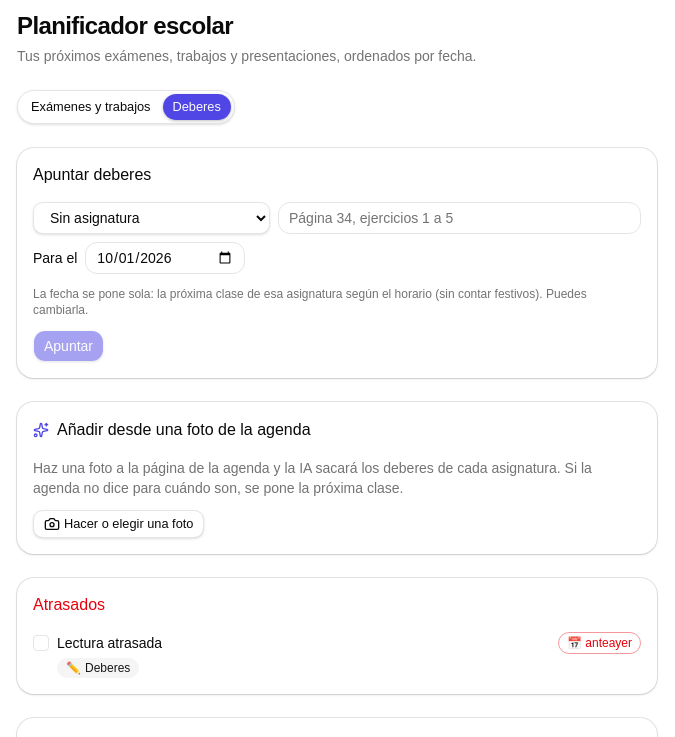
Planificador · pestaña Deberes › separa los deberes de los exámenes y los agrupa por día de entrega
The width and height of the screenshot is (675, 737).
Expected: the button "Lectura atrasada" is shown, [57,633,550,653]
Expected: the text "Examen de mates" is not shown
En la otra pestaña, al revés.
Click the tab "Exámenes y trabajos". click: click(91, 107)
box: [20,93,162,121]
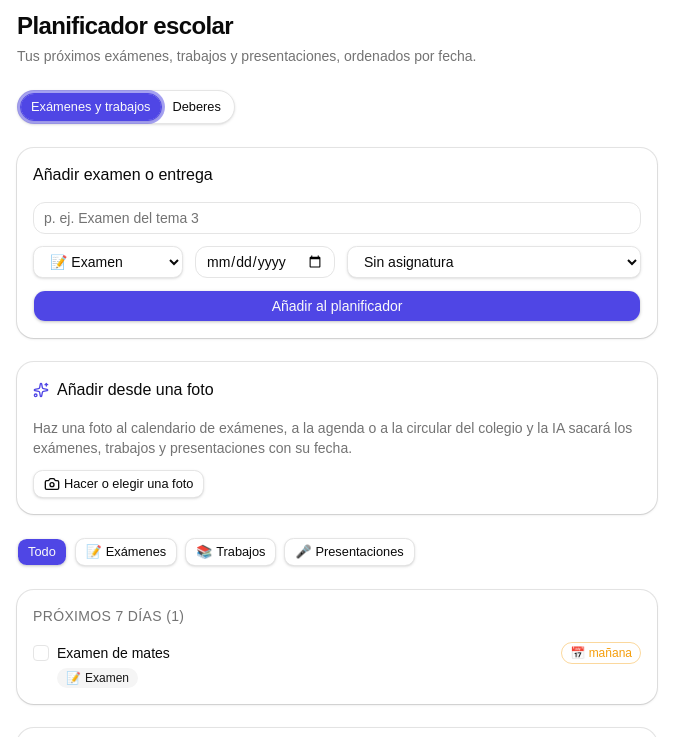
Result: the button "Examen de mates" is shown at [57,643,553,663]
